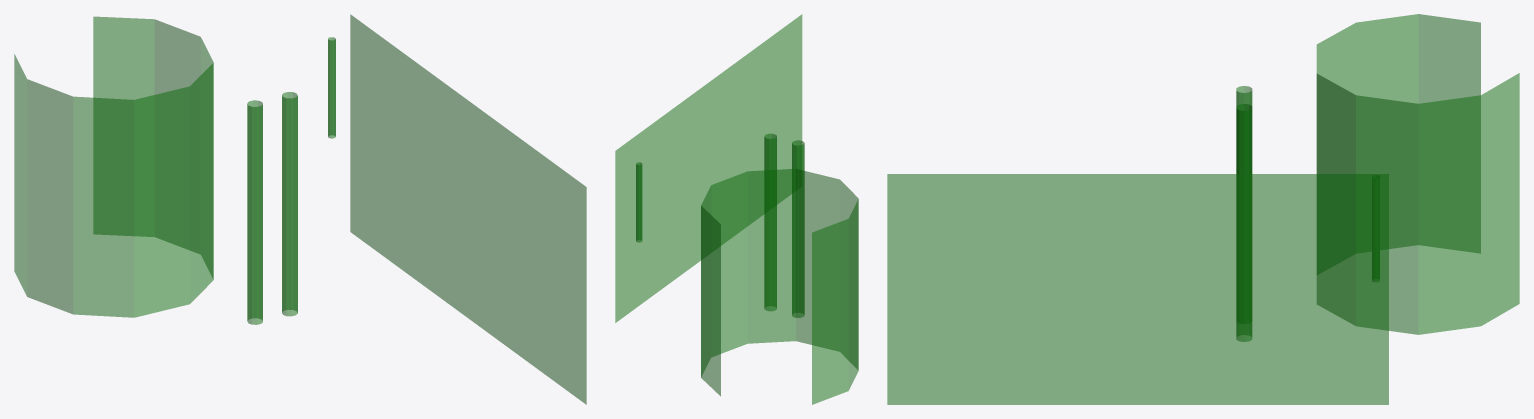
The model's file is Hit_C03_Wall.obj.
3 renders of one model, left to right at view 1: azimuth 30°, elevation 25°; view 2: azimuth 150°, elevation 25°; view 3: azimuth 270°, elevation 25°, orthographic. The views are drawn at different scales.
Bounding box in the file's own units: 89 × 60 × 149.
